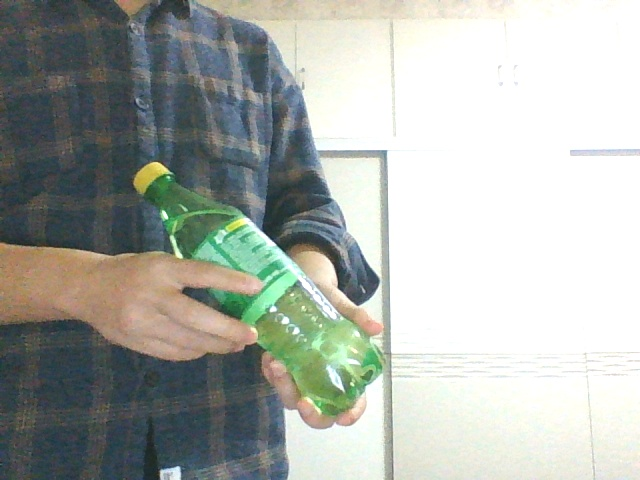Sprite: (131, 161, 385, 418)
